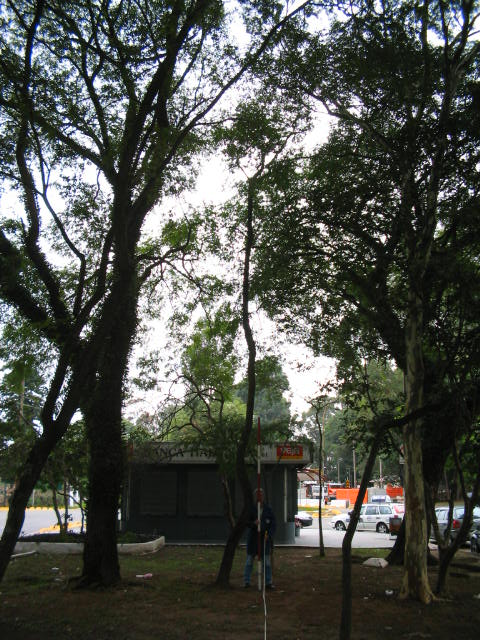stem: (386, 275, 444, 602), (216, 188, 253, 587), (70, 401, 137, 588)
stick: (251, 418, 268, 591)
tree: (1, 1, 218, 588), (273, 4, 478, 603), (201, 102, 320, 591)
